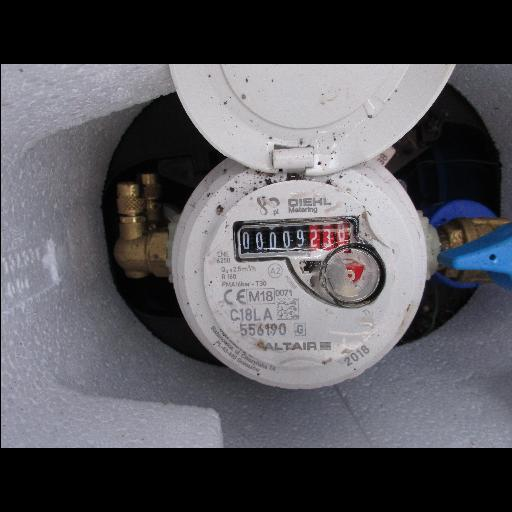0: (238, 228, 254, 254), (281, 226, 295, 252), (254, 227, 267, 253), (267, 227, 280, 253)
2: (309, 225, 321, 252)
3: (322, 224, 335, 251)
8: (335, 222, 350, 248)
9: (294, 225, 308, 251)
border_water_meter_number: (232, 216, 361, 263)
